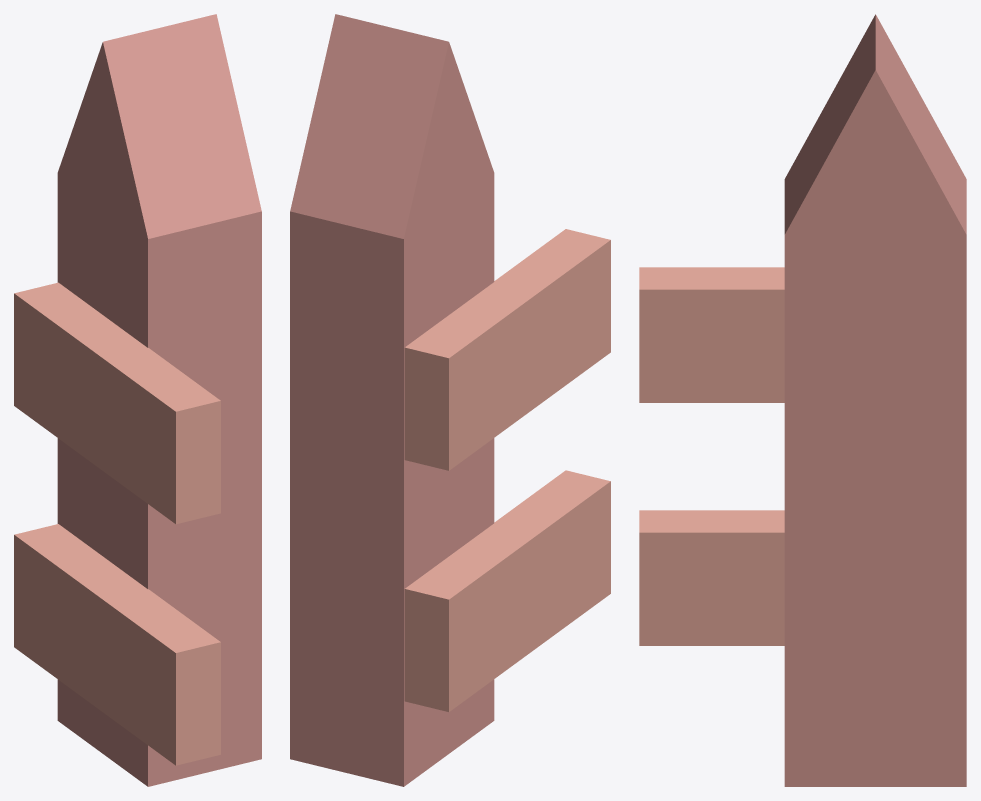
File: Fence.fbx
The picture shows the model from 3 angles, left to right: view 1: azimuth 30°, elevation 25°; view 2: azimuth 150°, elevation 25°; view 3: azimuth 270°, elevation 25°; orthographic projection.
Visible parts, largest first — view 1: Fence pole, Fence joint; view 2: Fence pole, Fence joint; view 3: Fence pole, Fence joint.
Boxes of the visible parts, x1,y1,x2,y2 form: Fence pole: (57,14,261,786); Fence joint: (14,282,220,765); Fence pole: (290,14,494,786); Fence joint: (404,229,610,711); Fence pole: (784,14,966,786); Fence joint: (639,267,784,645).
Size of the model in its own units: 71.79 by 309 by 128.
